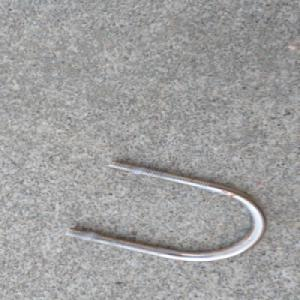ClampPart: (61, 158, 268, 262)
